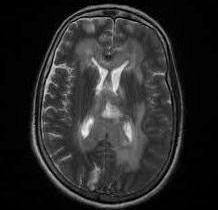Normal_Brain: (14, 1, 191, 210)
